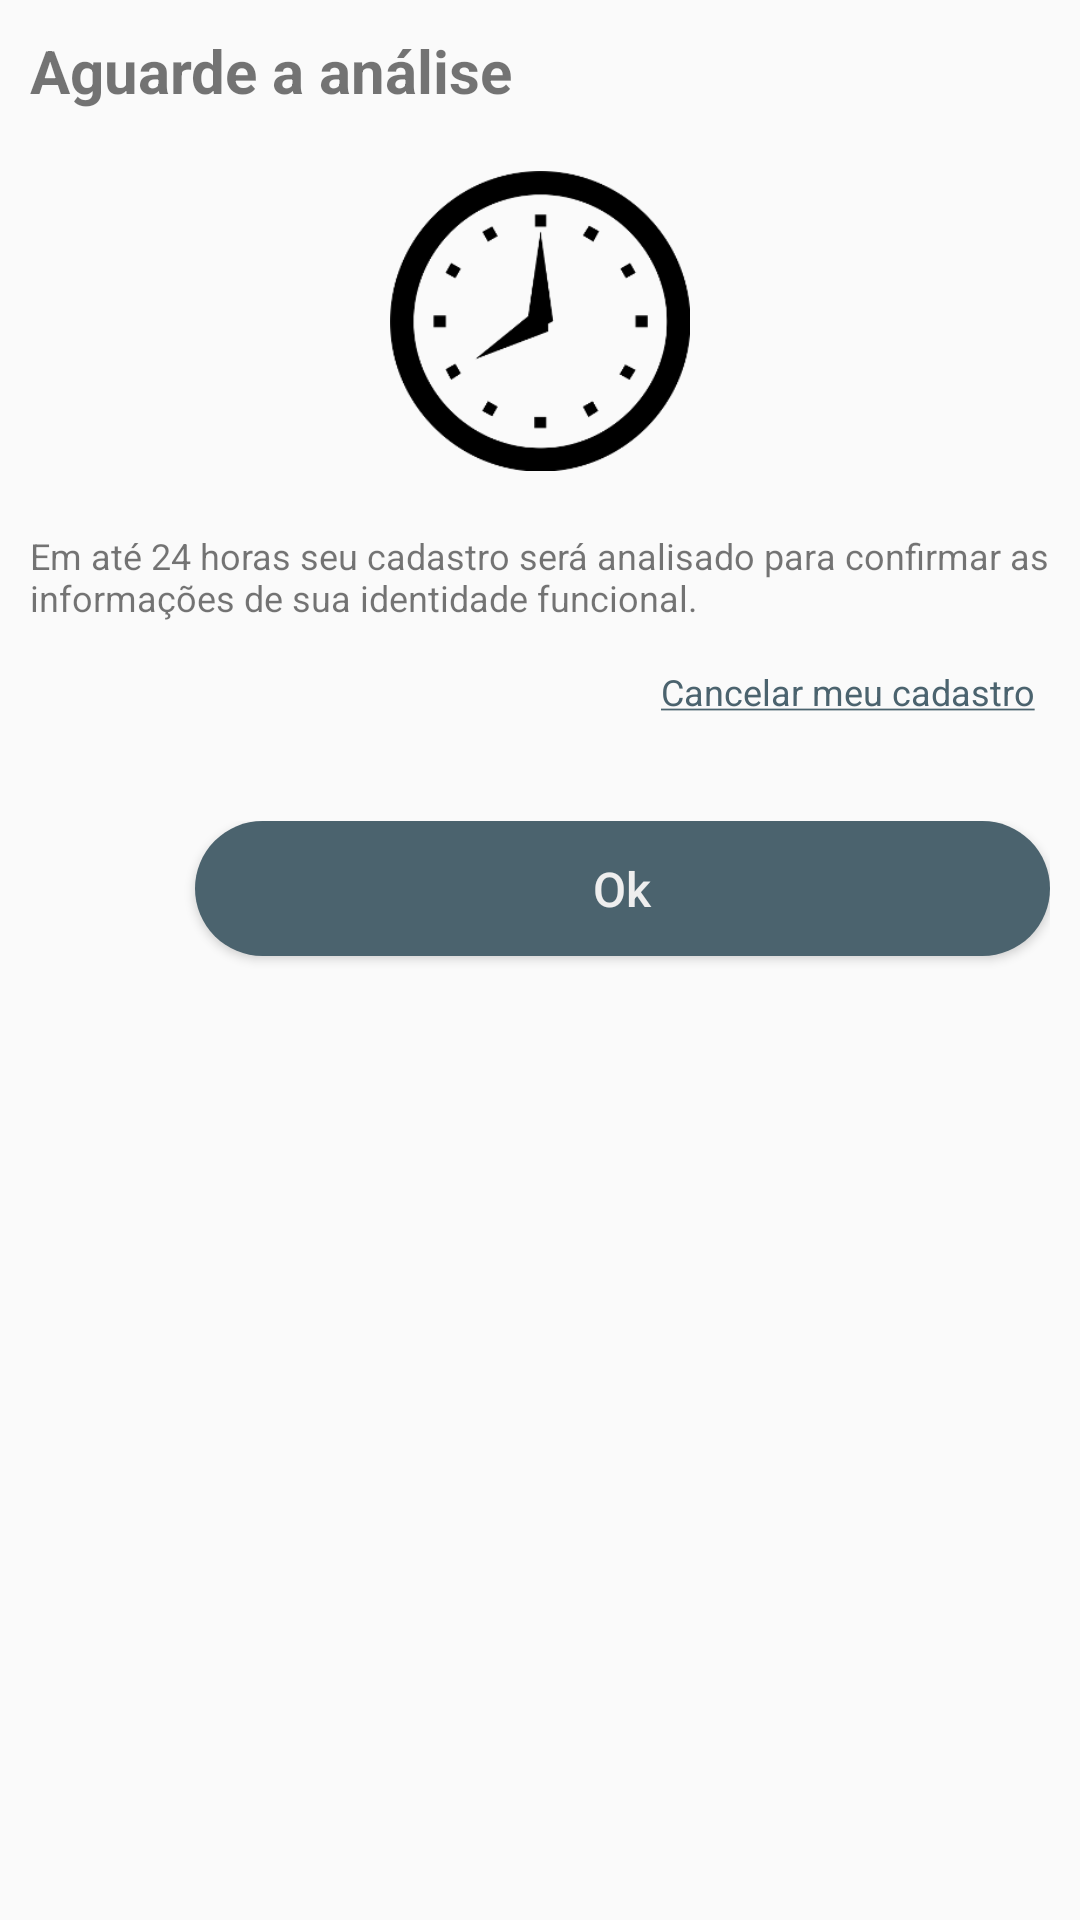

Icons on this 1080w x 1920h Android screen, each with its box as (x1, y1, x2, y2):
clock: (390, 171, 690, 471)
